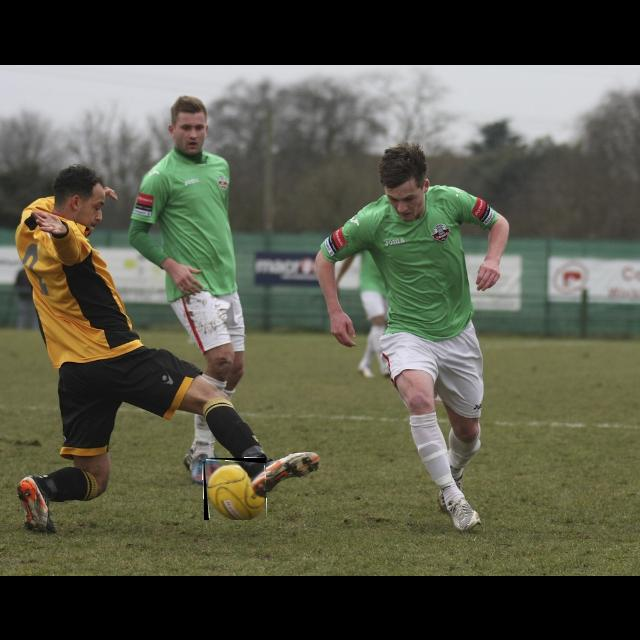Football: (204, 458, 266, 520)
